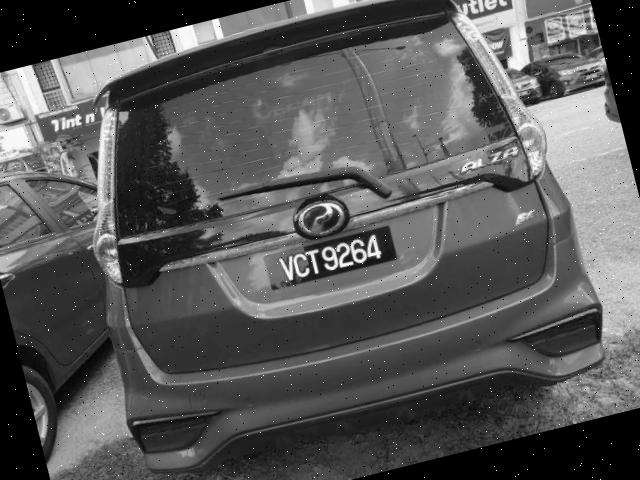License_Plate: (263, 225, 398, 292)
car: (40, 1, 618, 480)
